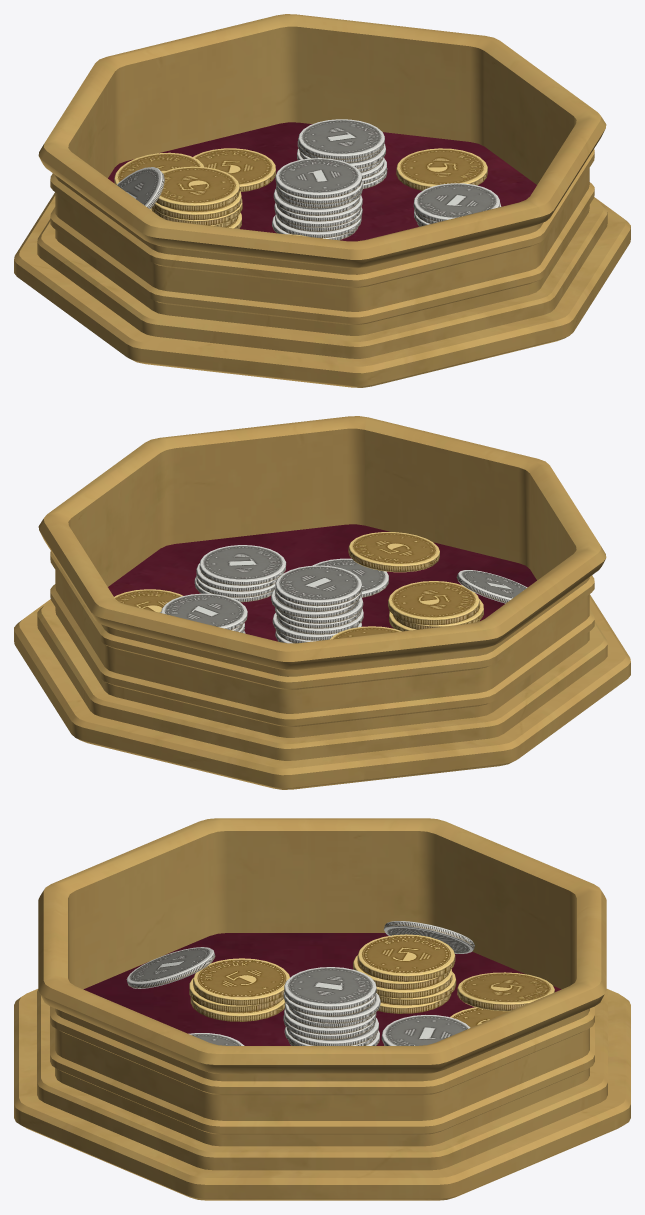
Rendered from Bank.glb.
3 views of the same model, one above another, from view 1: azimuth 30°, elevation 25°; view 2: azimuth 150°, elevation 25°; view 3: azimuth 270°, elevation 25° (orthographic). The views are drawn at different scales.
Visible parts, largest first — view 1: Bank_Brass, Bank_Coins, Bank_Floor; view 2: Bank_Brass, Bank_Coins, Bank_Floor; view 3: Bank_Brass, Bank_Coins, Bank_Floor.
Part boxes in pixels (<box>): Bank_Brass: <box>14,14,630,387</box>; Bank_Coins: <box>114,119,501,240</box>; Bank_Floor: <box>108,122,536,241</box>; Bank_Brass: <box>14,416,630,789</box>; Bank_Coins: <box>114,532,527,643</box>; Bank_Floor: <box>108,524,536,641</box>; Bank_Brass: <box>14,818,630,1200</box>; Bank_Coins: <box>126,921,554,1045</box>; Bank_Floor: <box>83,933,561,1045</box>.
Size of the model in its own units: 0.24 by 0.06 by 0.24.
Materials: 3 (3 with a texture image).
